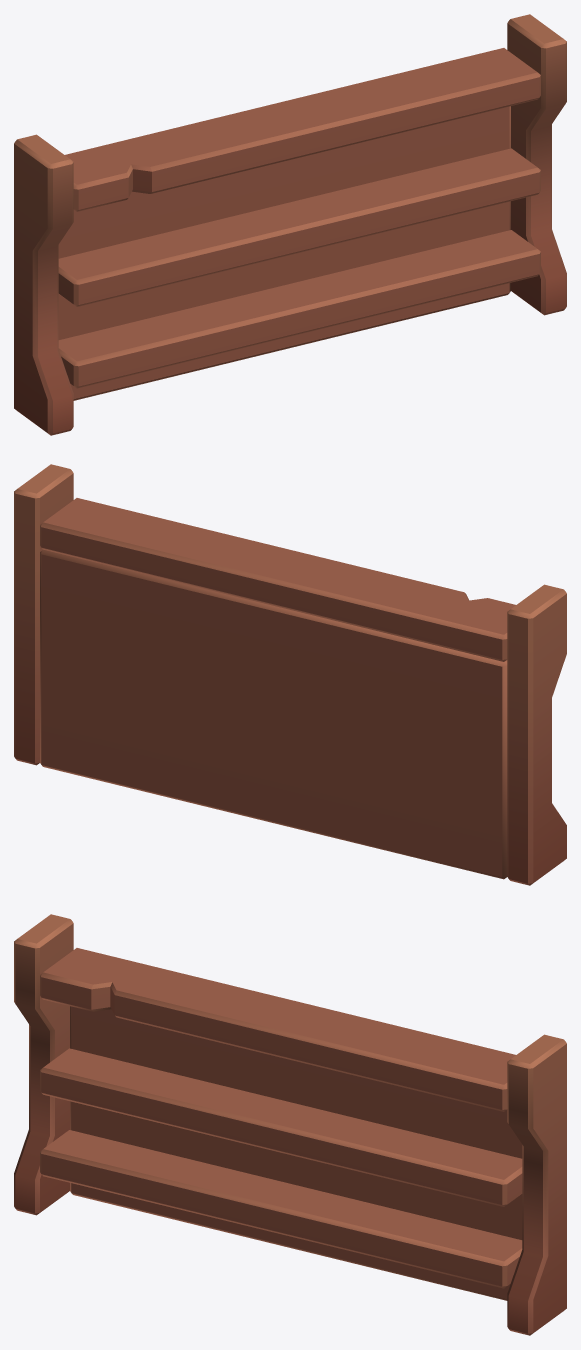
Rendered from bartop_B_large.glb.
3 renders of one model, top to bottom at view 1: azimuth 30°, elevation 25°; view 2: azimuth 150°, elevation 25°; view 3: azimuth 330°, elevation 25°, orthographic.
Parts seen in each view (by area): view 1: bartop_B_large; view 2: bartop_B_large; view 3: bartop_B_large.
Boxes of the visible parts, left/top/right/bottom form: bartop_B_large: left=14, top=14, right=566, bottom=435; bartop_B_large: left=14, top=464, right=566, bottom=885; bartop_B_large: left=14, top=914, right=566, bottom=1335.
Size of the model in its own units: 4 by 2 by 0.5.
1 material, 1 textured.
